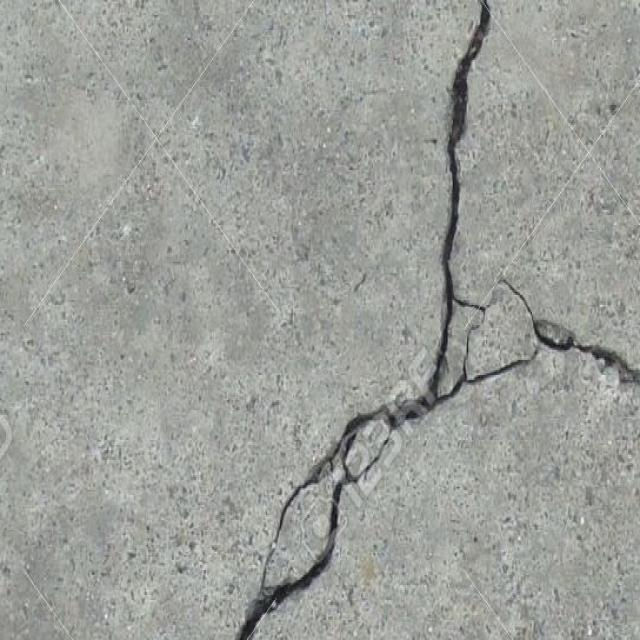crack: (235, 6, 637, 637)
